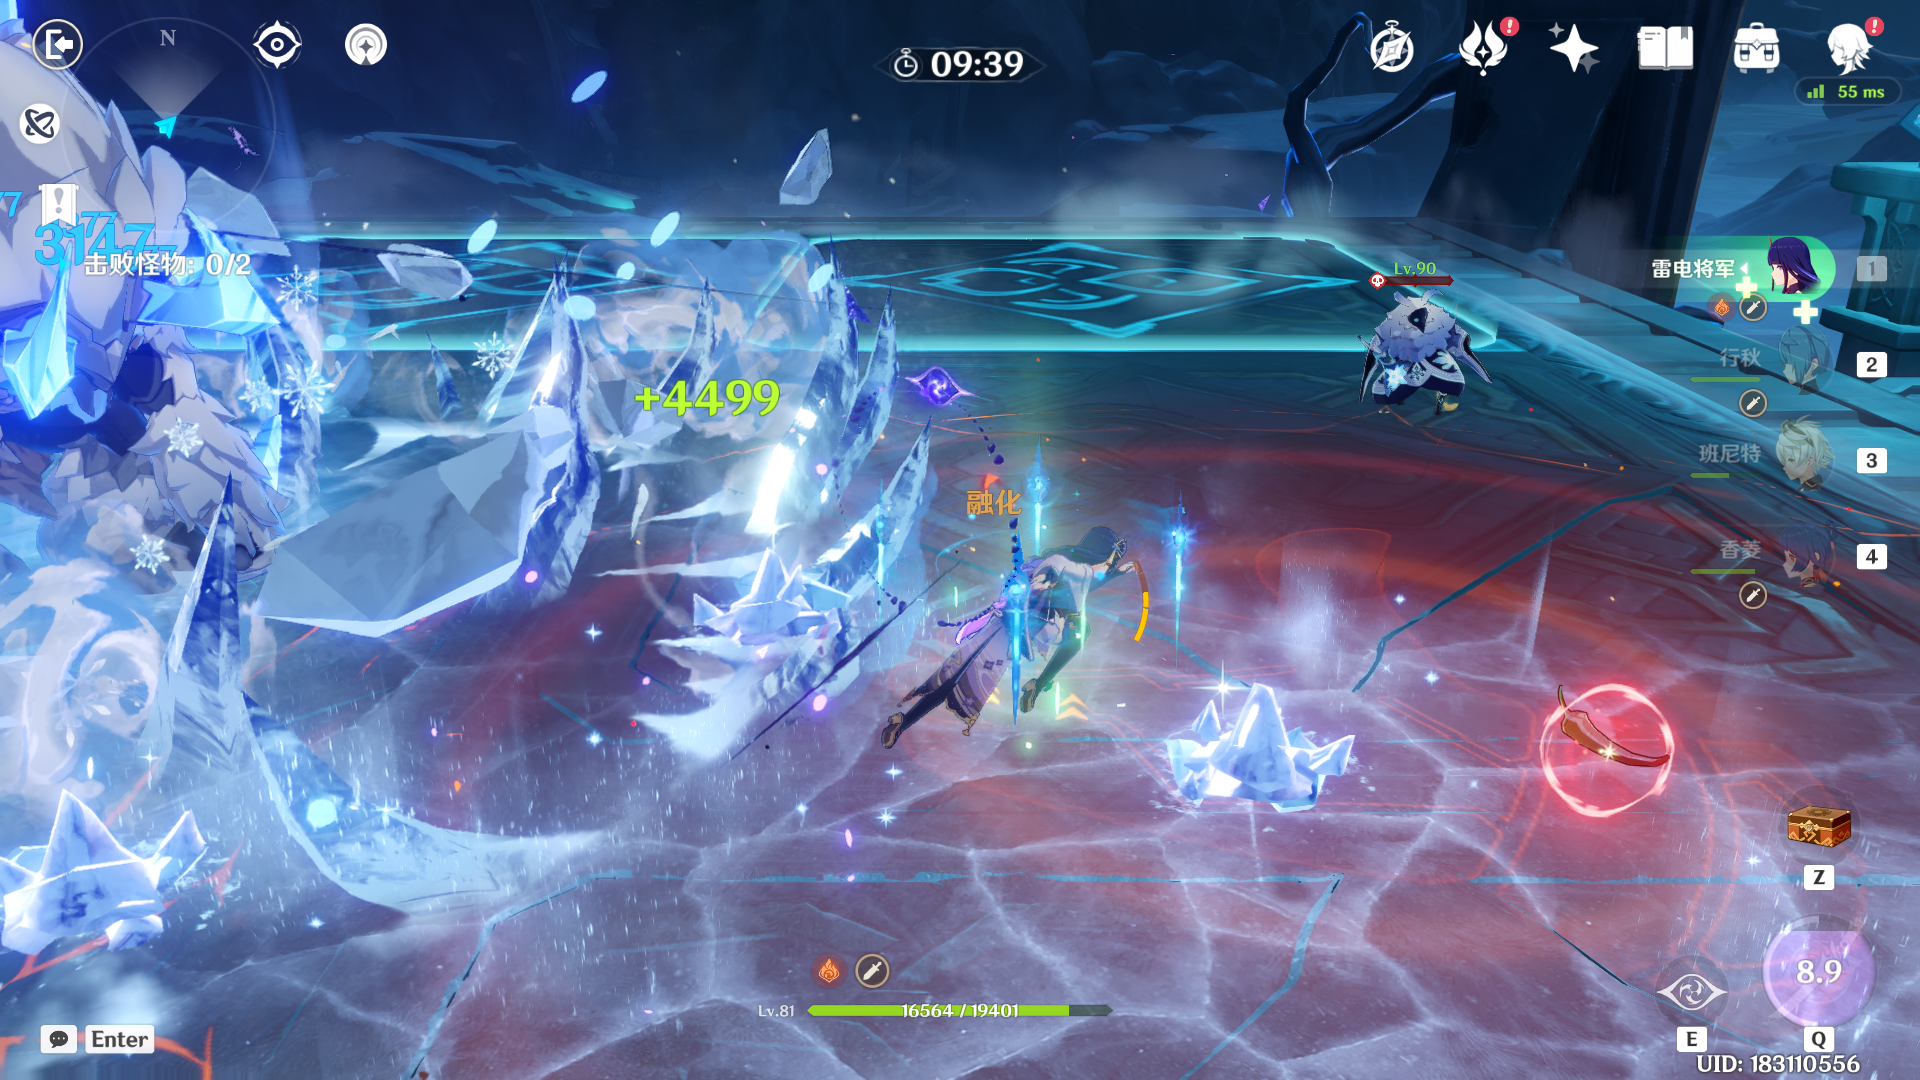caster: (1348, 262, 1501, 460)
character: (851, 460, 1176, 819)
